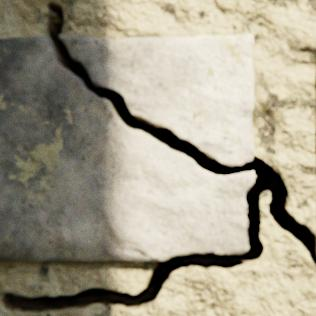broken_brick: (0, 36, 254, 261), (60, 35, 254, 165)
crack: (0, 1, 315, 315)
